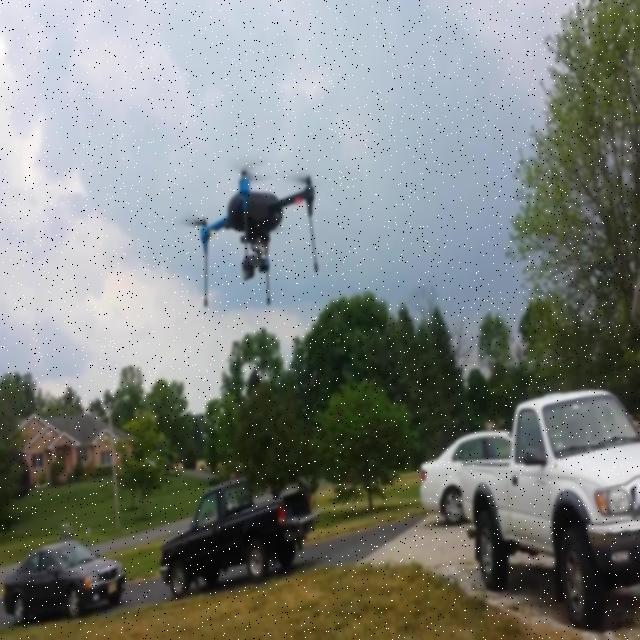UAV: (180, 159, 318, 307)
